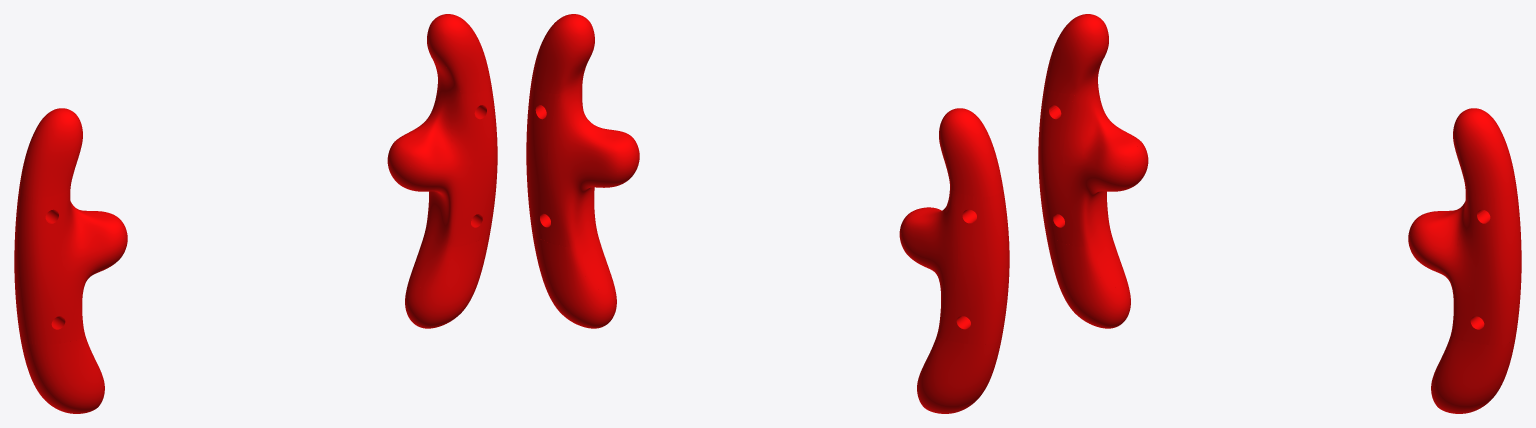
Rendered from UA_26EV_Steering_wheel_4_0__UA_26EV_grips3_1.dae.
The picture shows the model from 3 angles, left to right: view 1: azimuth 30°, elevation 25°; view 2: azimuth 150°, elevation 25°; view 3: azimuth 330°, elevation 25°; orthographic projection.
Visible parts, largest first — view 1: node0; view 2: node0; view 3: node0.
Part boxes in pixels (x1,y1,x2,y2): node0: (14,14,497,413); node0: (526,14,1009,413); node0: (1038,14,1521,413).
Size of the model in its own units: 0.2373 by 0.1452 by 0.0278.
